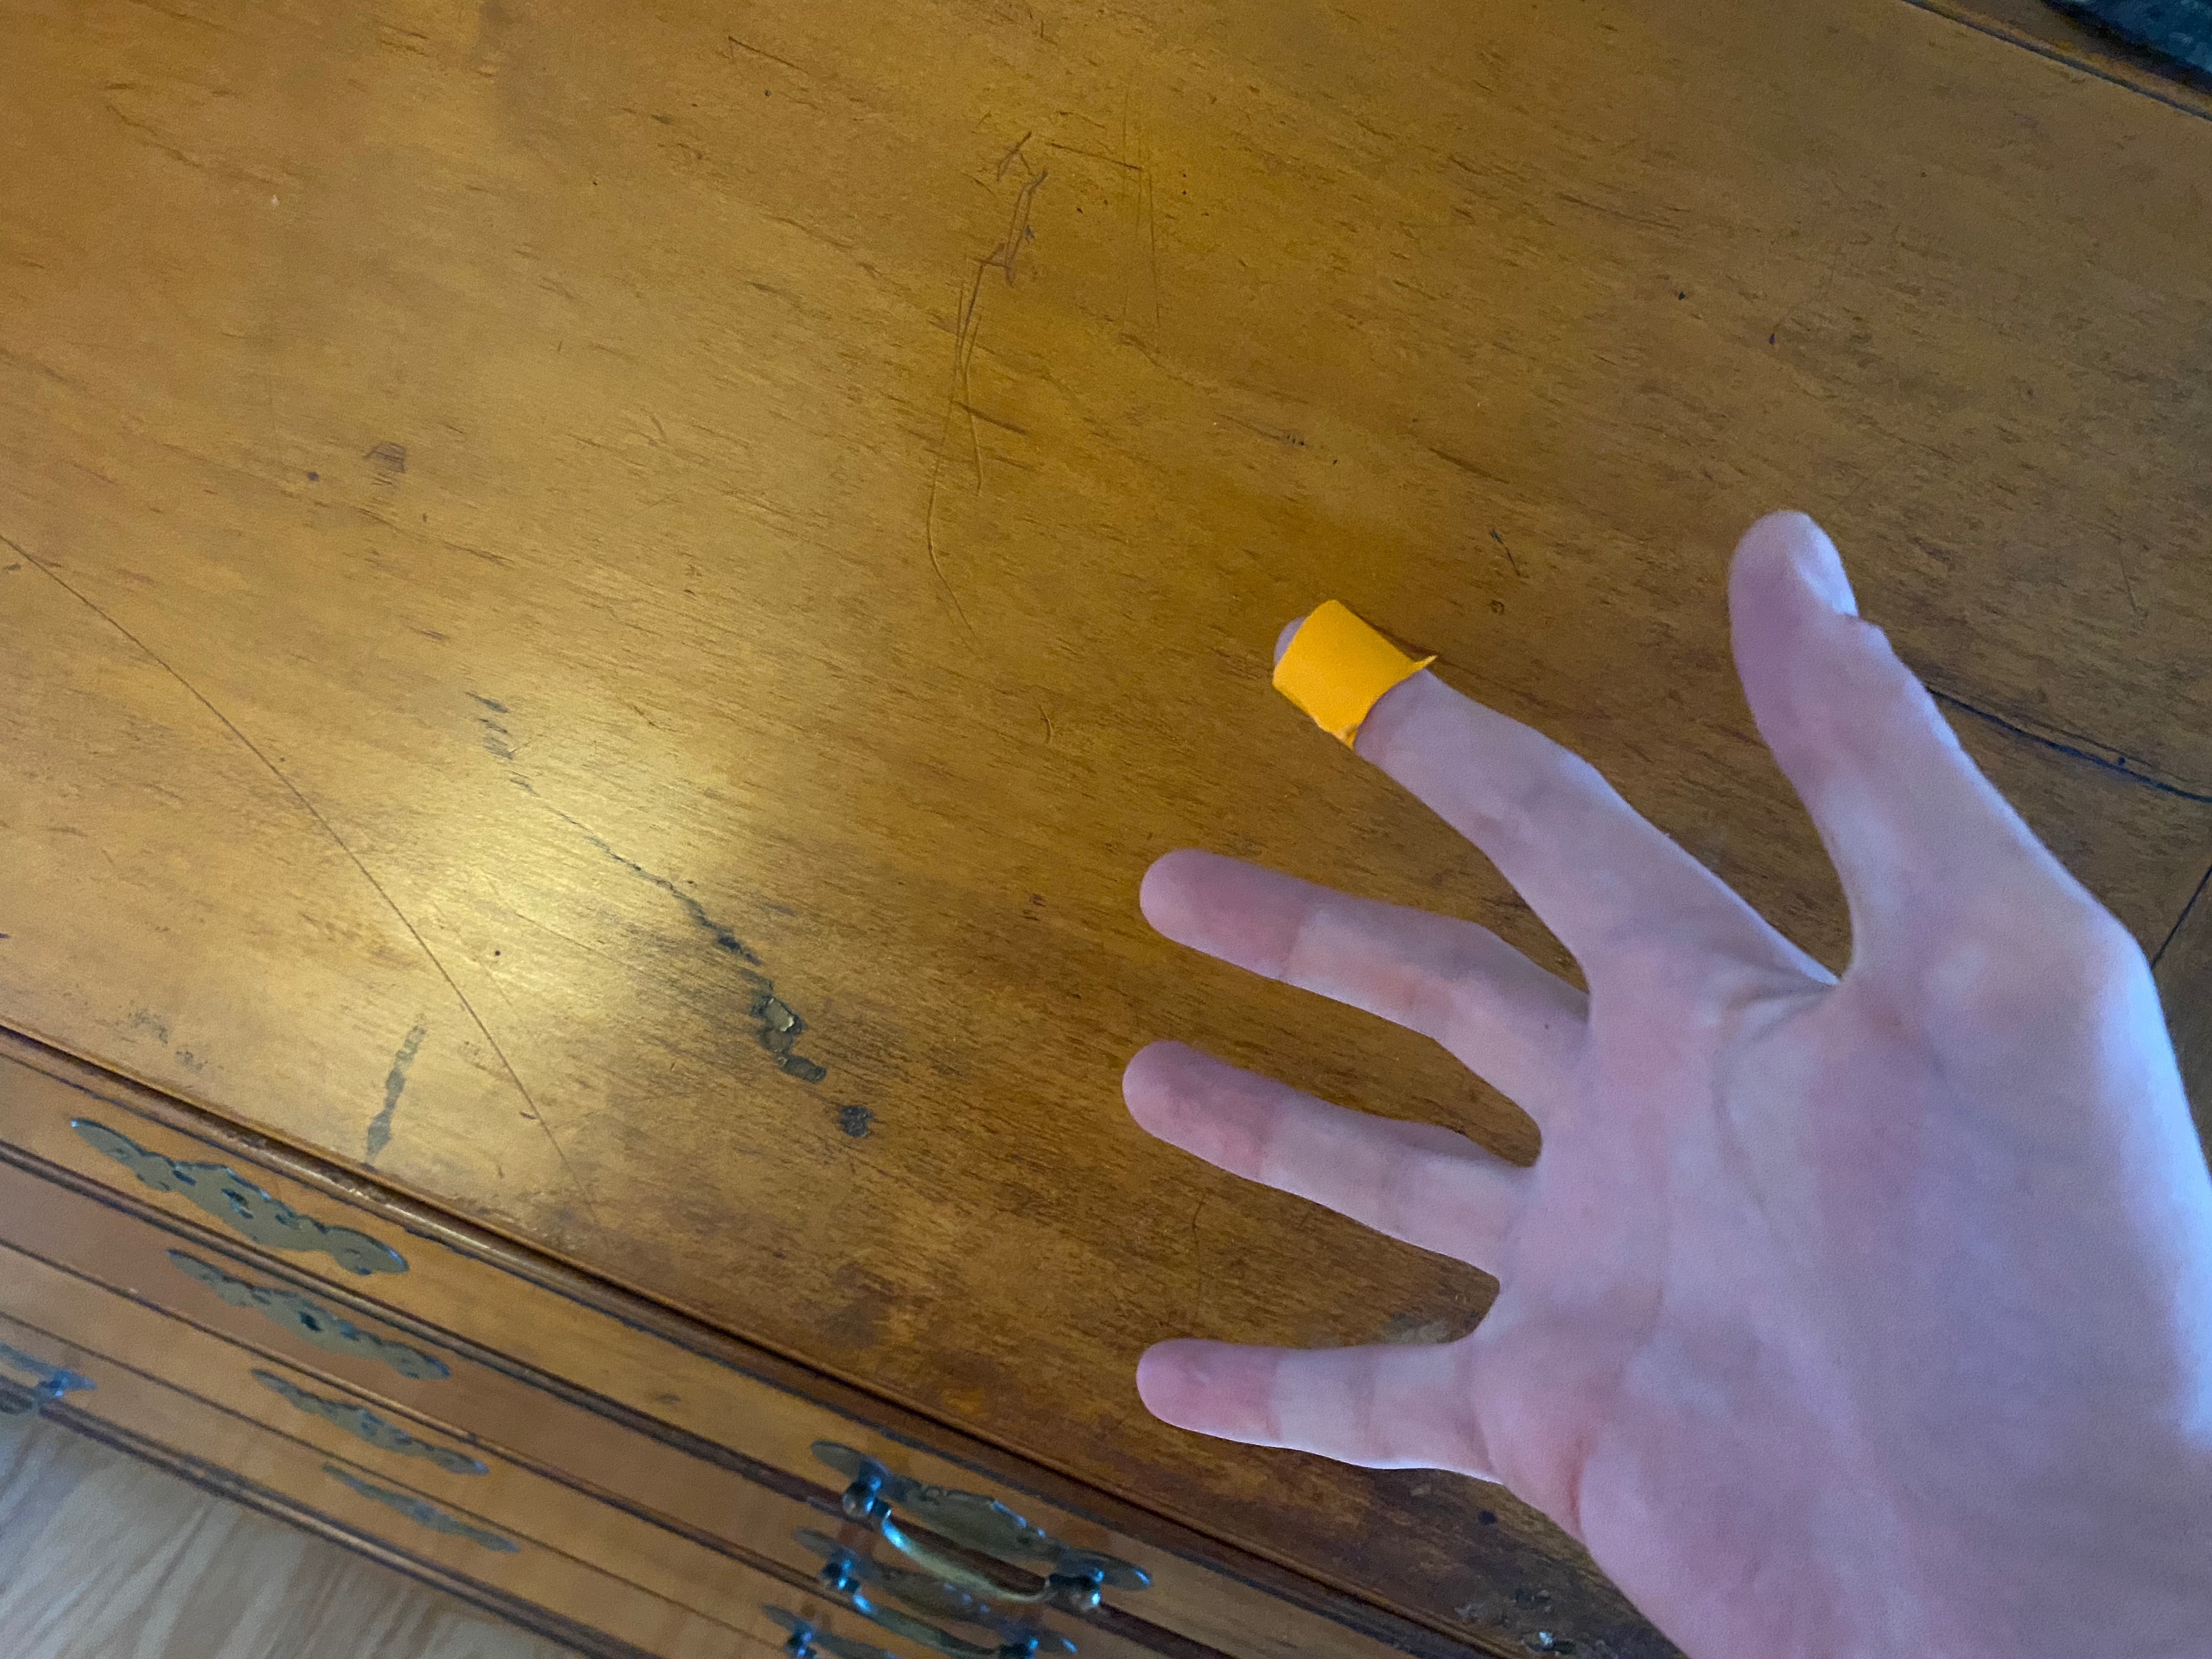fingertip: (1258, 586, 1458, 779)
